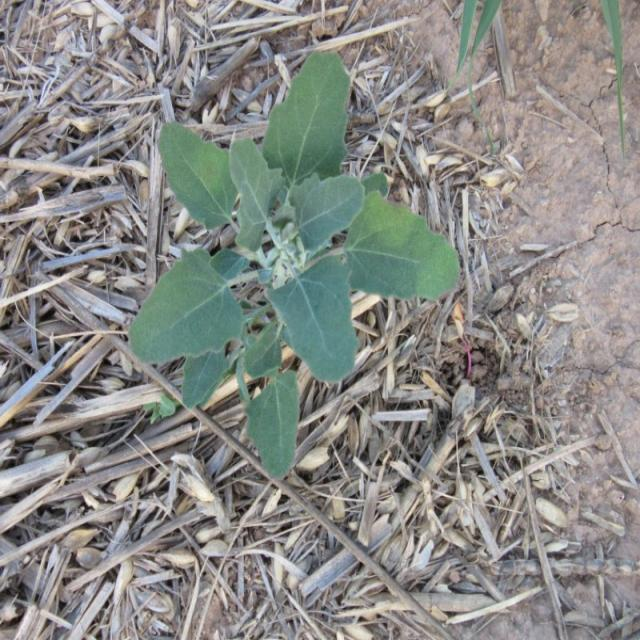ca: (129, 51, 462, 411)
